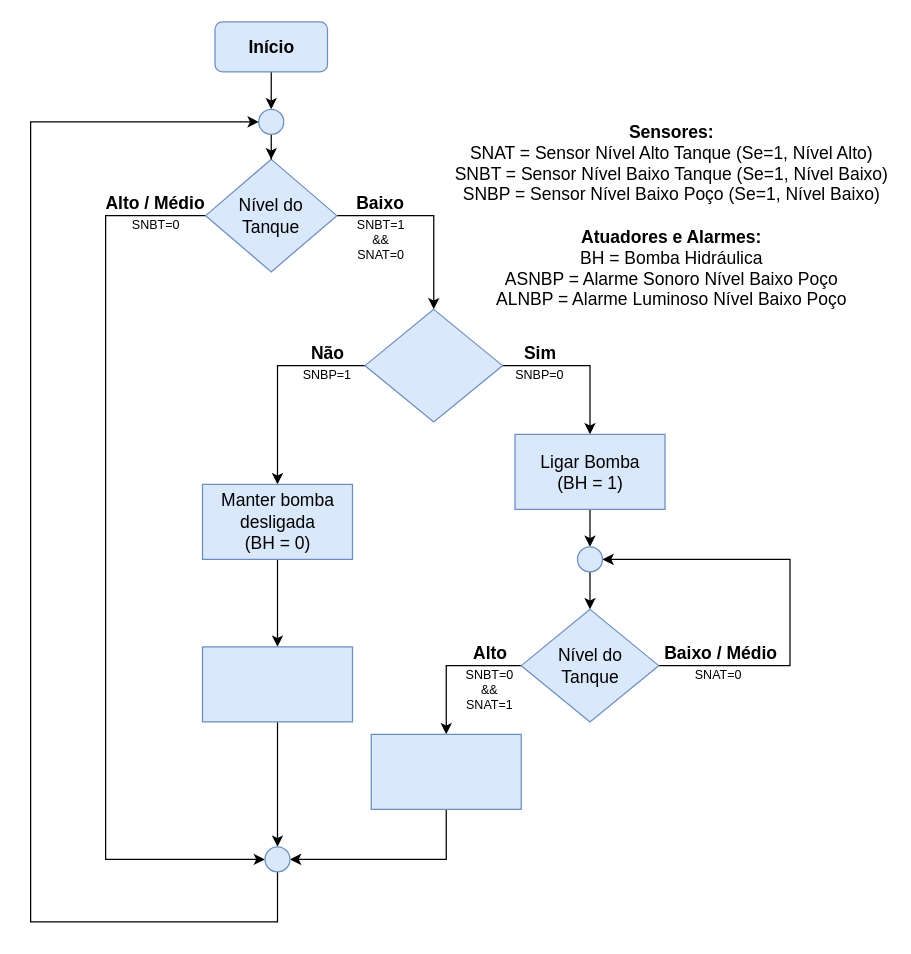
This 911x954 diagram has some shape labels left out. Here are the shapes that lost their labels. From the top down, the box of each, then its label:
(364, 308, 502, 422): Há água no poço?
(201, 646, 352, 722): Ligar Alarmes (ASNBP = 1 ALNBP = 1)
(370, 733, 521, 809): Desligar Bomba (BH = 1)
